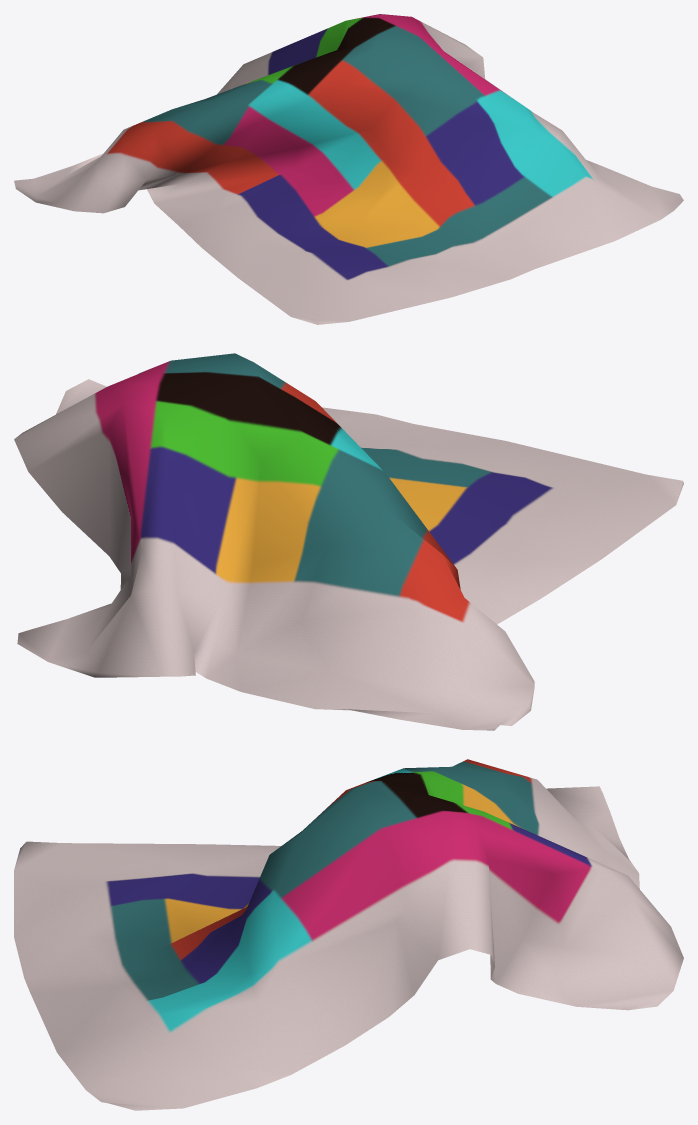
The model's file is bedding_003.fbx.
3 views of the same model, one above another, from view 1: azimuth 30°, elevation 25°; view 2: azimuth 150°, elevation 25°; view 3: azimuth 270°, elevation 25° (orthographic). The views are drawn at different scales.
Parts seen in each view (by area): view 1: bedding_003_low; view 2: bedding_003_low; view 3: bedding_003_low.
Boxes of the visible parts, x1=… form: bedding_003_low: x1=14, y1=14, x2=683, y2=324; bedding_003_low: x1=14, y1=353, x2=683, y2=730; bedding_003_low: x1=14, y1=759, x2=683, y2=1110.
Bounding box in the file's own units: 173 × 46.77 × 153.
